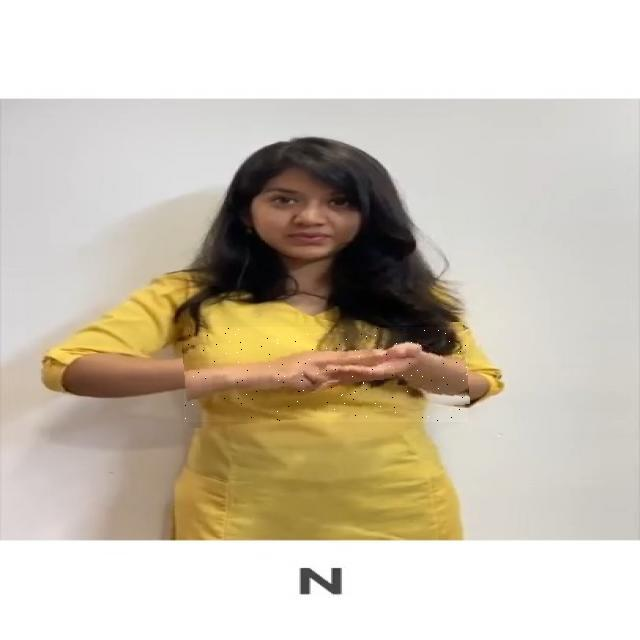N: (184, 327, 468, 422)
